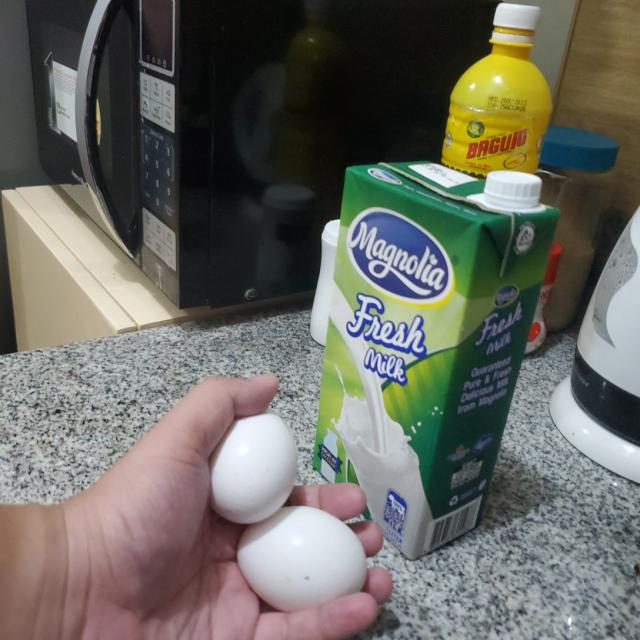egg: (245, 513, 369, 600), (210, 414, 297, 524)
milk: (310, 163, 561, 547)
